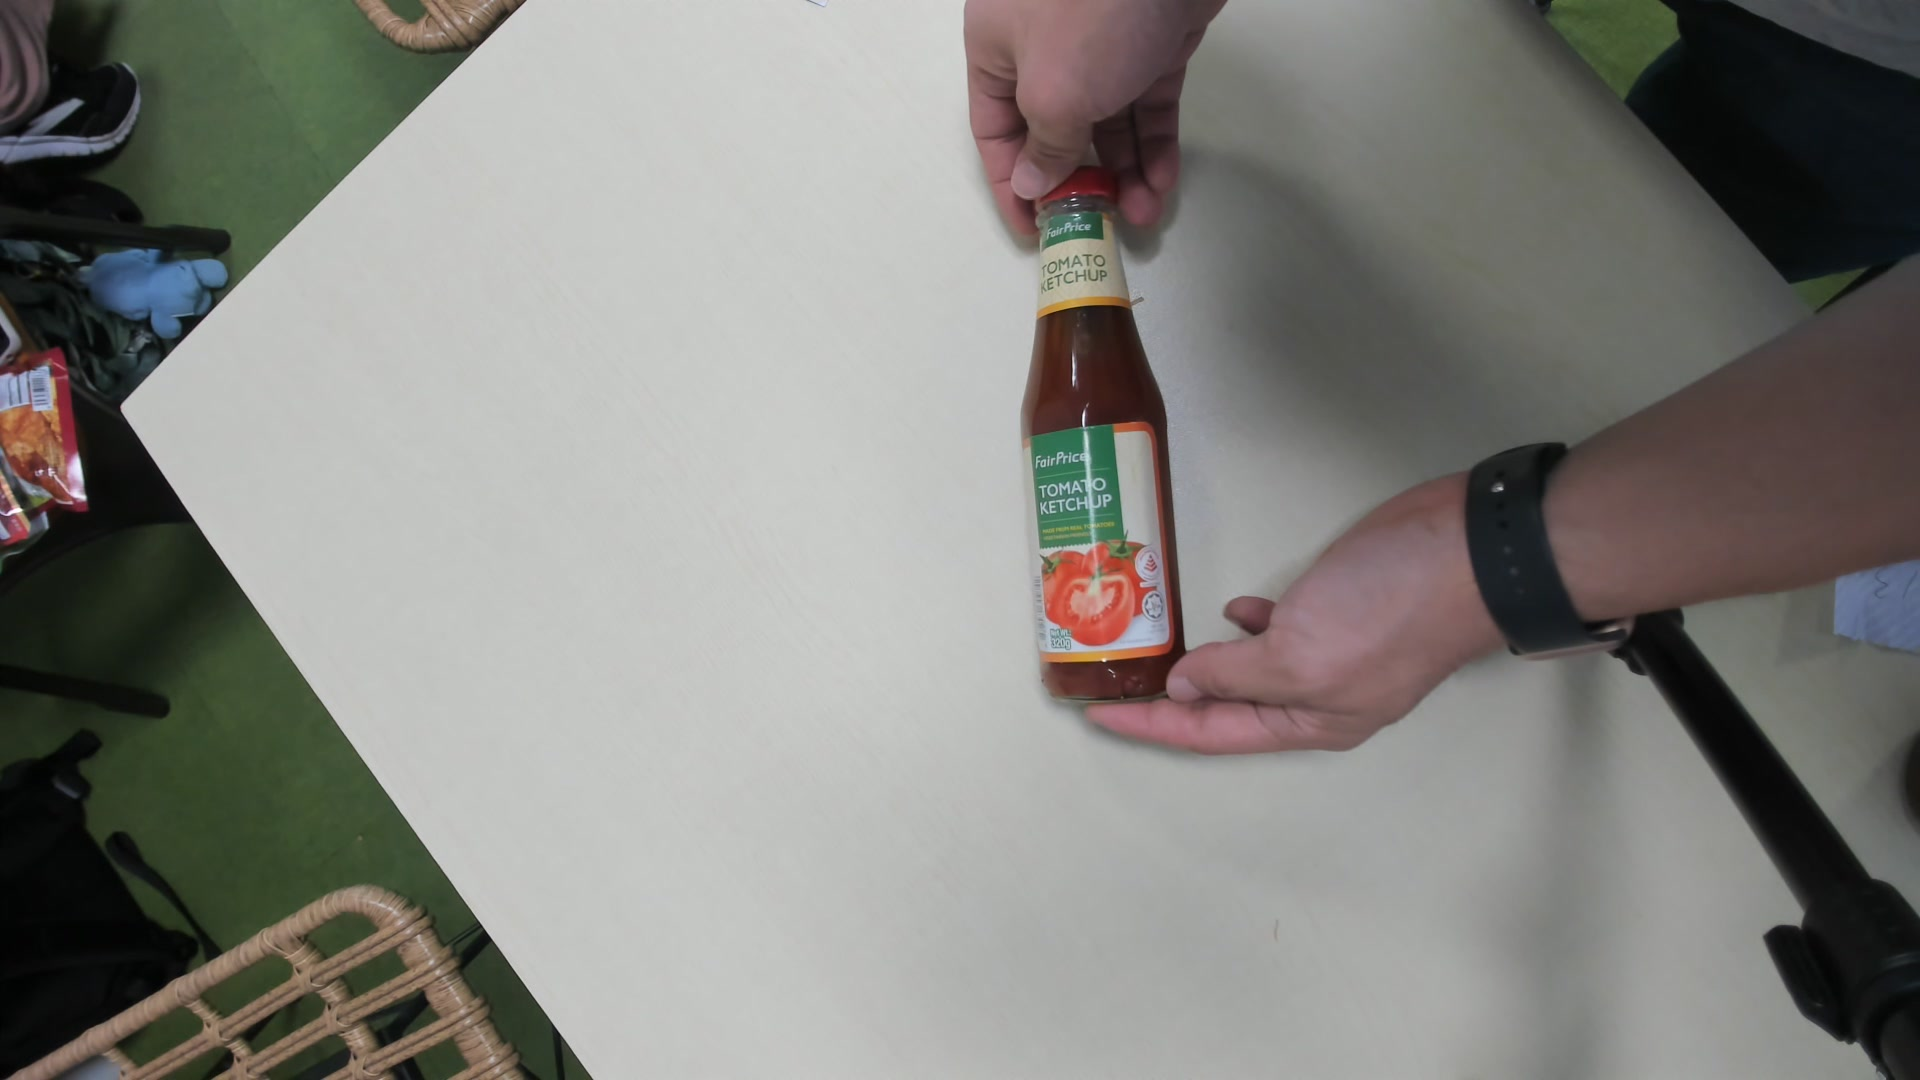KetchupChillSauce_300-399g_Halal_Healthy: (1025, 164, 1193, 708)
